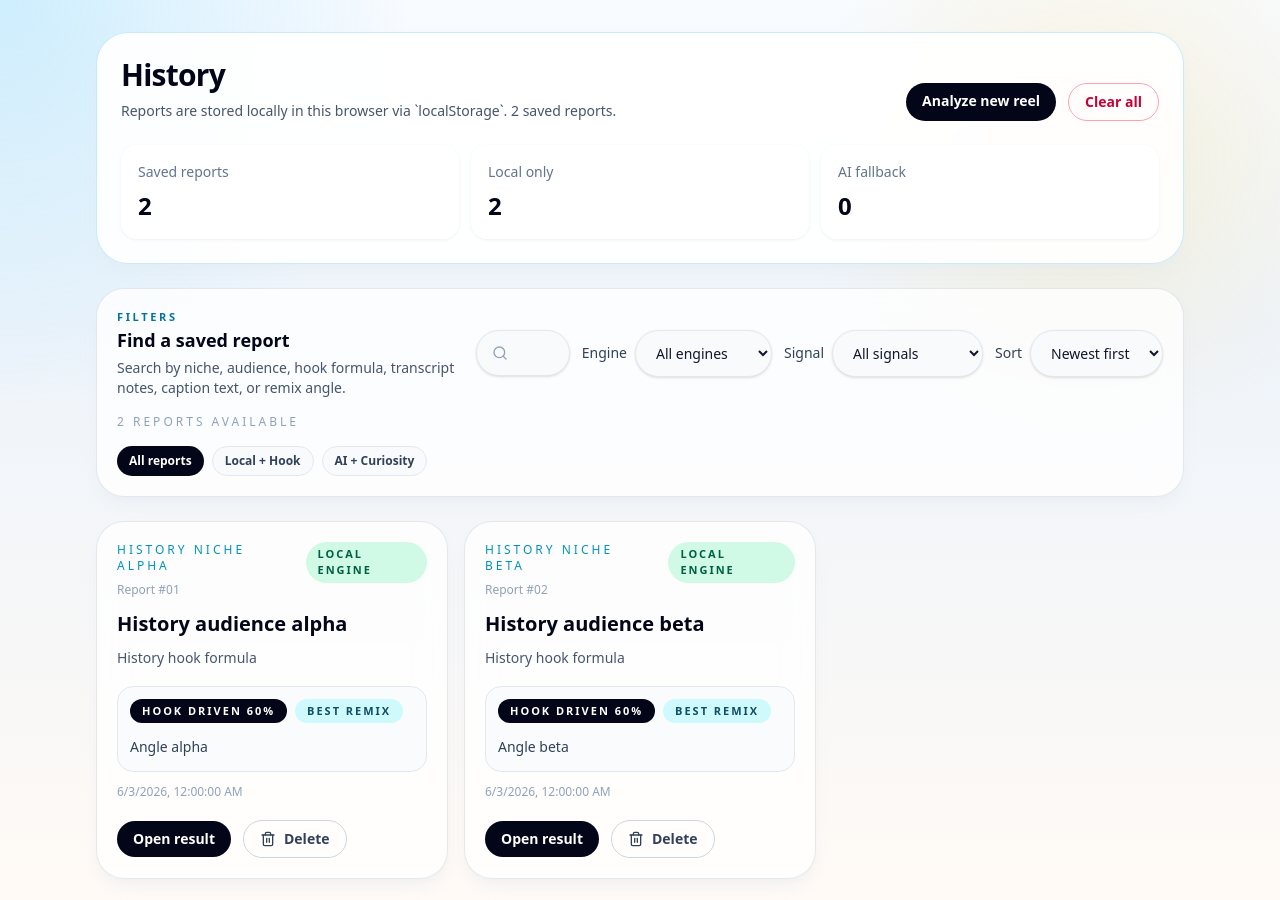
Test case: HistoryPage › filters saved reports by search query and can clear the filter
The width and height of the screenshot is (1280, 900).
Type "beta" into the field labelled "Search saved reports" at (523,353), box [476, 330, 570, 376]
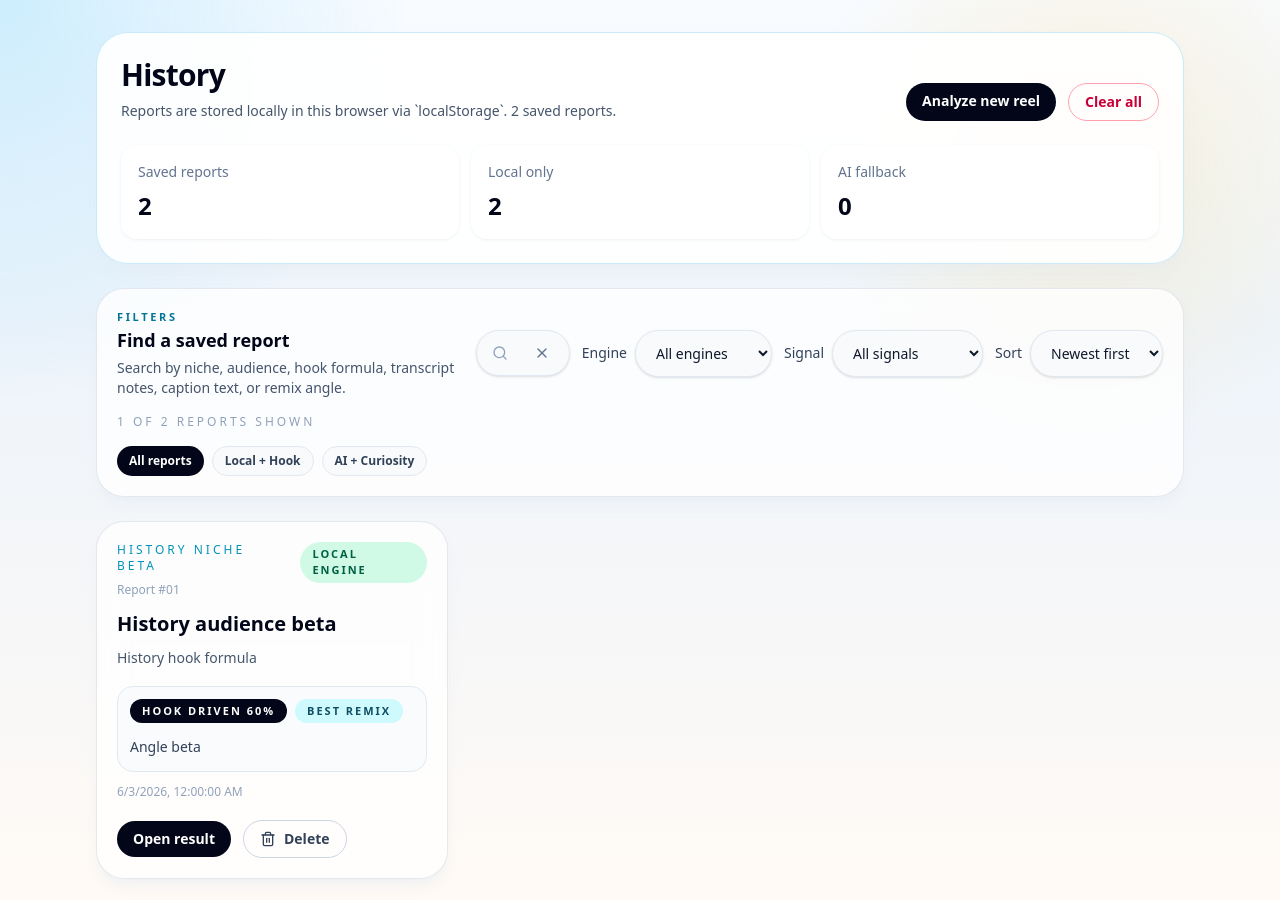
Expected: the text "History niche beta" is shown, [117, 540, 245, 574]
Expected: the text "History niche alpha" is gone
Expected: the text "1 of 2 reports shown" is shown, [117, 412, 315, 430]
Click the button named "Clear search" at (542,353), box [526, 337, 558, 369]
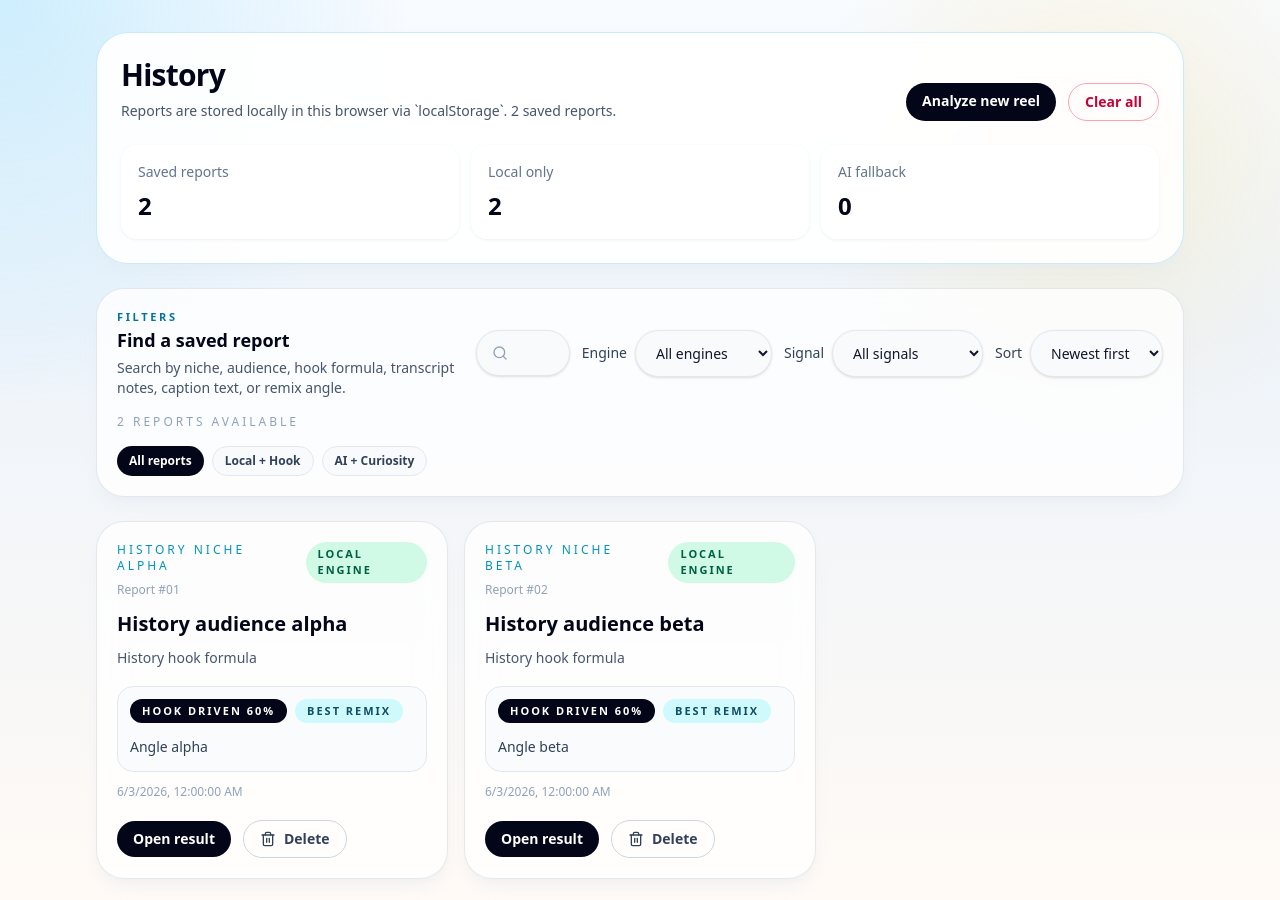
Expected: the text "History niche beta" is shown, [485, 540, 613, 574]
Expected: the text "History niche alpha" is shown, [117, 540, 245, 574]
Expected: the text "2 reports available" is shown, [117, 412, 299, 430]
